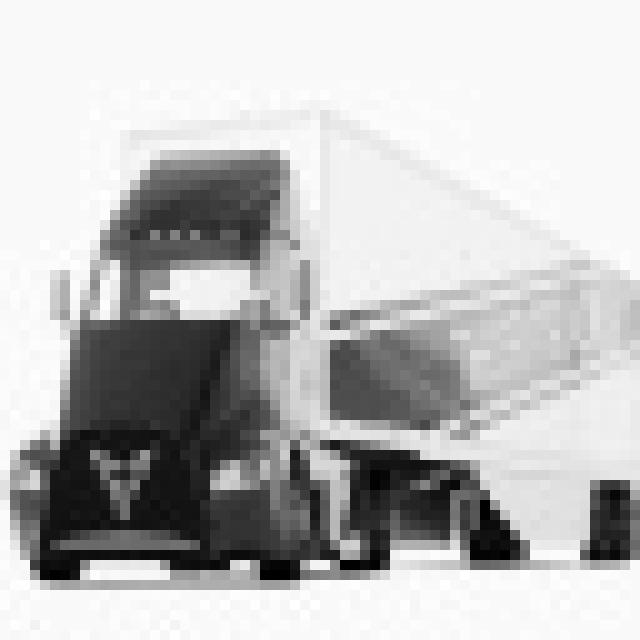trucks: (23, 99, 640, 600)
